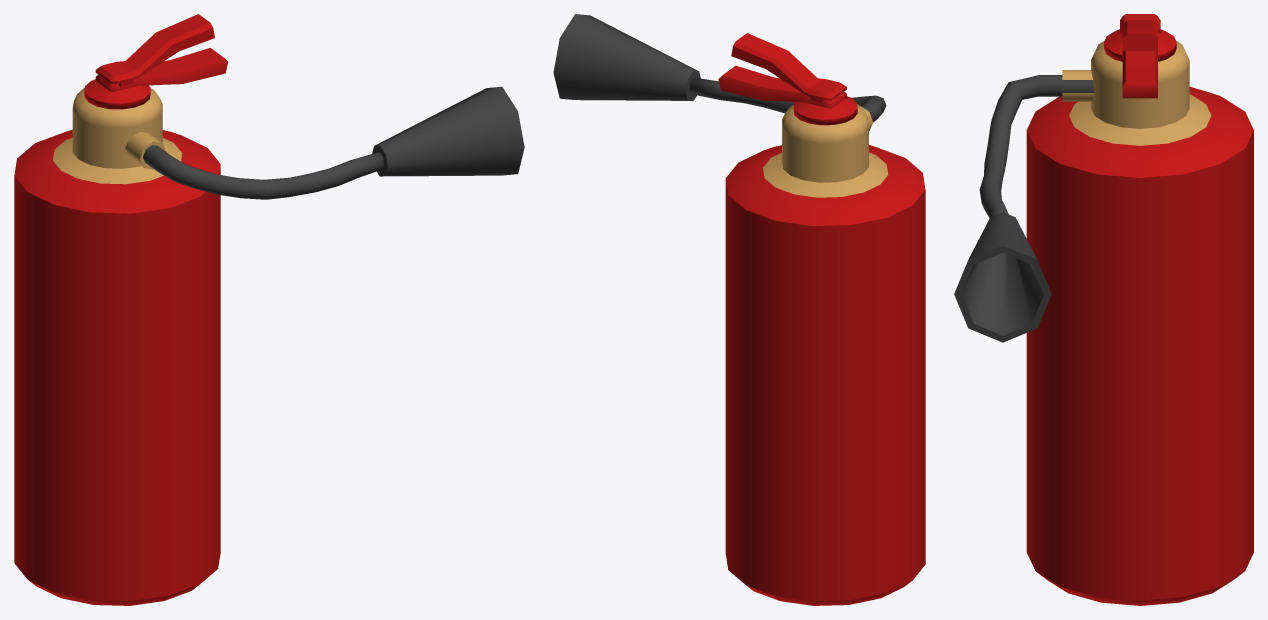
File: fire extinguisher.fbx
3 renders of one model, left to right at view 1: azimuth 30°, elevation 25°; view 2: azimuth 150°, elevation 25°; view 3: azimuth 270°, elevation 25°, orthographic. The views are drawn at different scales.
Parts seen in each view (by area): view 1: Cylinder, Cylinder.005, Cylinder.001, Cylinder.004, Cylinder.002, Cylinder.003; view 2: Cylinder, Cylinder.005, Cylinder.001, Cylinder.002, Cylinder.003, Cylinder.004; view 3: Cylinder, Cylinder.001, Cylinder.005, Cylinder.004, Cylinder.002, Cylinder.003.
Boxes of the visible parts, x1,y1,x2,y2 form: Cylinder: (14,129,220,605); Cylinder.005: (372,86,524,176); Cylinder.001: (53,87,182,184); Cylinder.004: (125,132,383,199); Cylinder.002: (84,47,228,109); Cylinder.003: (95,14,214,86); Cylinder: (725,145,925,605); Cylinder.005: (553,14,700,100); Cylinder.001: (763,104,888,197); Cylinder.002: (718,65,857,125); Cylinder.003: (731,33,846,103); Cylinder.004: (689,77,886,130); Cylinder: (1026,87,1253,605); Cylinder.001: (1069,41,1211,145); Cylinder.005: (954,212,1051,342); Cylinder.004: (979,70,1094,217); Cylinder.002: (1104,29,1176,98); Cylinder.003: (1120,14,1160,50).
Size of the model in its own units: 265 by 324 by 153.
